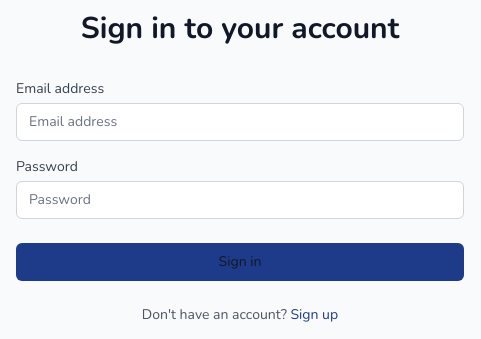
LoginForm › should show loading state while submitting
Type "test@example.com" into the field with placeholder "Email address" at (240, 122), box [16,103,464,141]
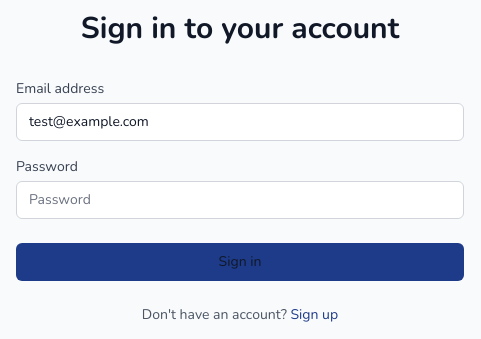
Type "password123" into the password field with placeholder "Password" at (240, 200), box [16,181,464,219]
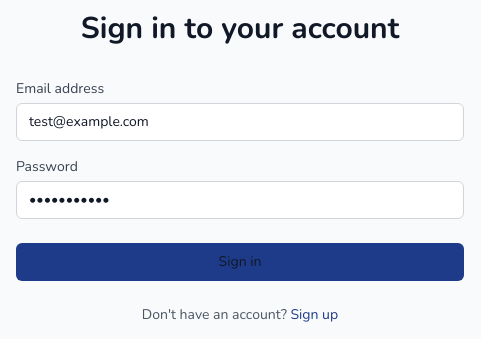
Click the button "Sign in" at (240, 262), box [16,243,464,281]
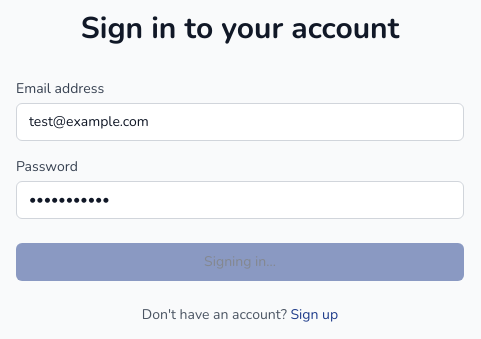
expect the button "Signing in..." is disabled: met, box [16,243,464,281]
